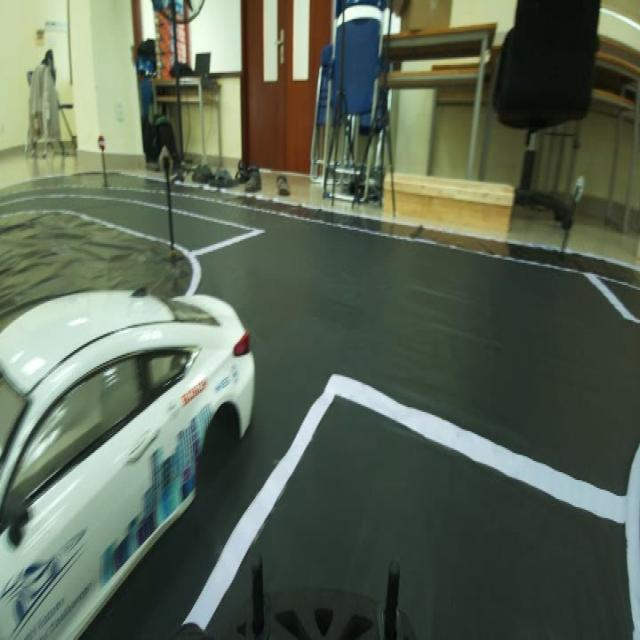car: (0, 295, 254, 597)
